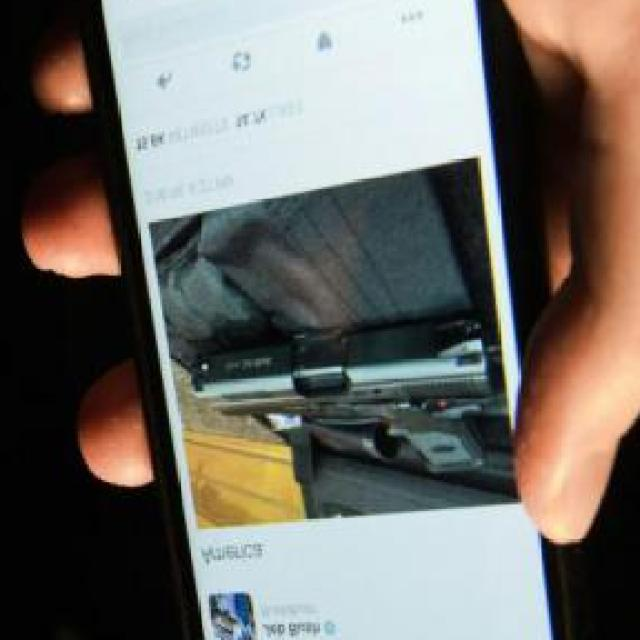pistol: (207, 296, 493, 476)
